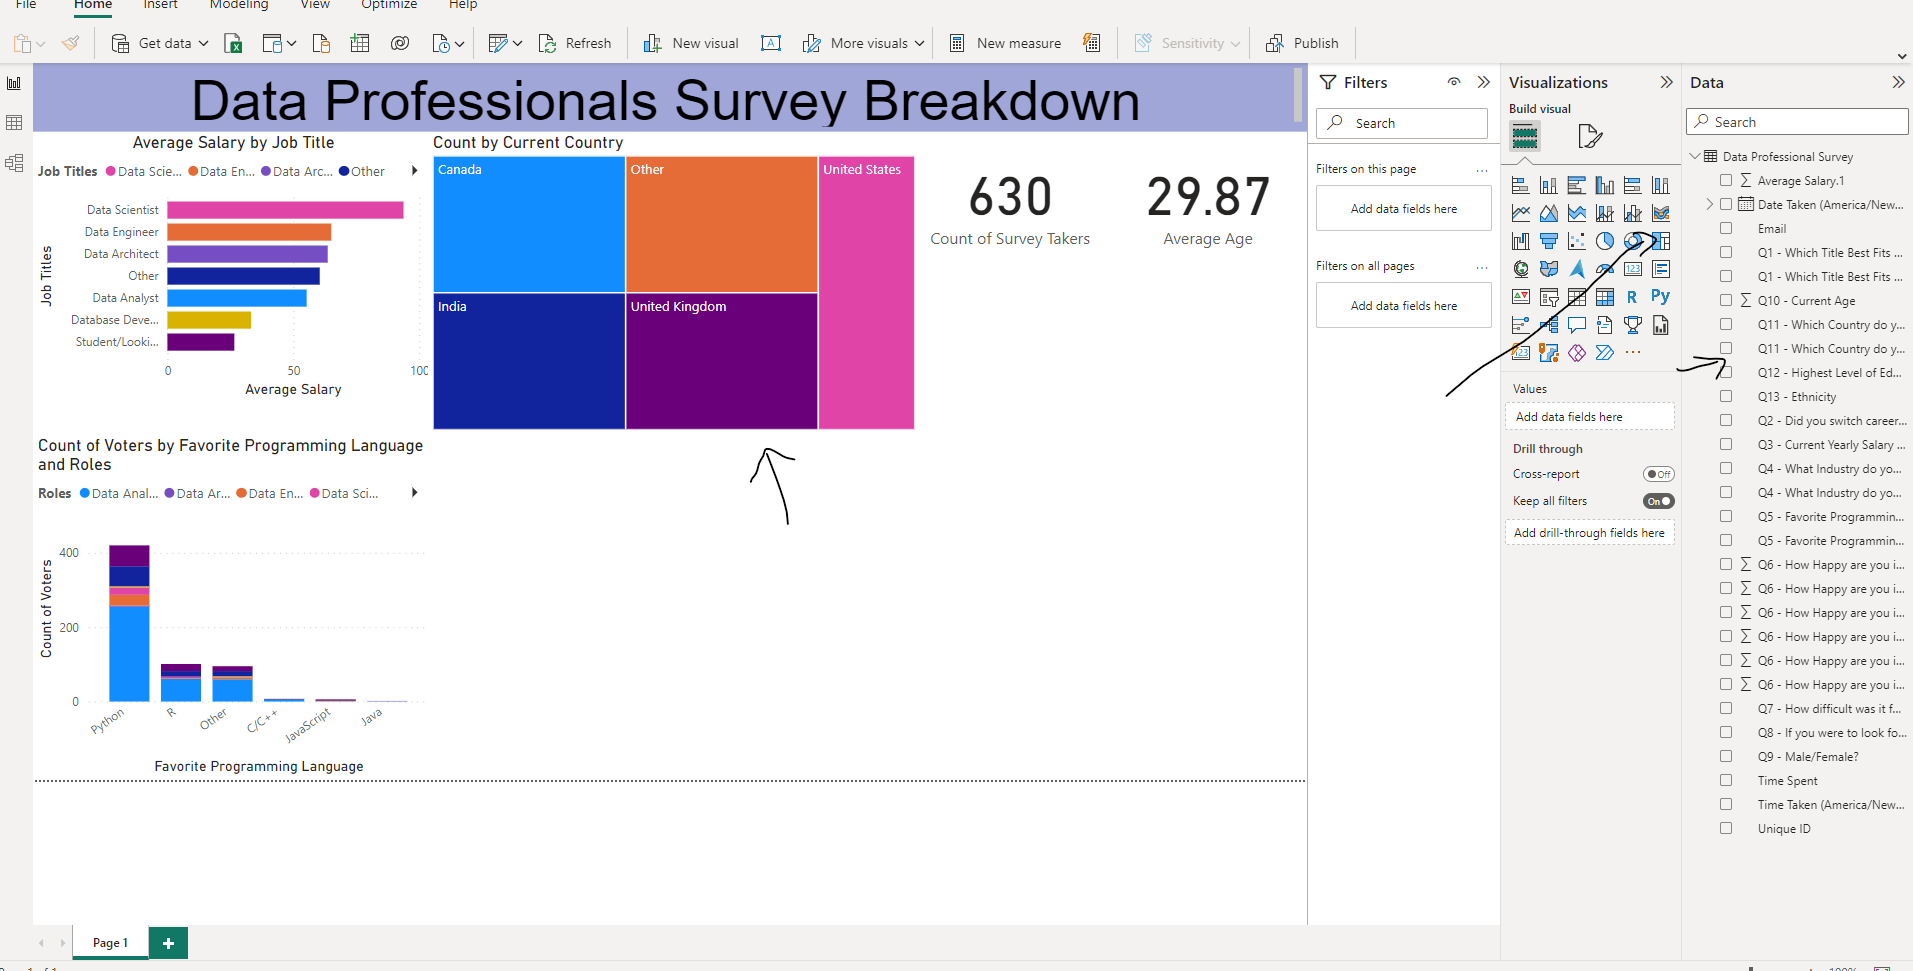

Layout of this report page (visuals, bound fields, positions):
{"tool":"powerbi","page":{"name":"Page 1","canvas":[1280,720],"ordinal":0},"visuals":[{"type":"textbox","box":[0,0,1280,69.4],"z":0},{"type":"card","fields":{"Values":["Count(Data Professional Survey.Unique ID)"]},"box":[891.2,69.6,199.2,136],"z":1000},{"type":"card","fields":{"Values":["Avg(Data Professional Survey.Q10 - Current Age)"]},"box":[1080.9,69.5,199.1,135.9],"z":2000},{"type":"barChart","title":"Average Salary by Job Title","fields":{"Category":["Data Professional Survey.Q1 - Which Title Best Fits your Current Role?.1"],"Y":["Avg(Data Professional Survey.Average Salary.1)"],"Series":["Data Professional Survey.Q1 - Which Title Best Fits your Current Role?.1"]},"box":[453.1,69.6,452,282.8],"z":3000},{"type":"columnChart","fields":{"Category":["Data Professional Survey.Q5 - Favorite Programming Language.1"],"Y":["CountNonNull(Data Professional Survey.Unique ID)"],"Series":["Data Professional Survey.Q1 - Which Title Best Fits your Current Role?.1"]},"box":[0,352.4,402.7,367.4],"z":4000},{"type":"treemap","fields":{"Group":["Data Professional Survey.Q11 - Which Country do you live in?.1"],"Values":["Count(Data Professional Survey.Q11 - Which Country do you live in?.1)"]},"box":[0,70,452.7,282.4],"z":5000},{"type":"gauge","title":"Happiness with Work/Balance","fields":{"Y":["Avg(Data Professional Survey.Q6 - How Happy are you in your Current Position with the following? (Work/Life Balance))"],"MinValue":["Min(Data Professional Survey.Q6 - How Happy are you in your Current Position with the following? (Work/Life Balance))1"],"MaxValue":["Max(Data Professional Survey.Q6 - How Happy are you in your Current Position with the following? (Work/Life Balance))2"]},"box":[891.2,227.1,388.8,205.7],"z":6000},{"type":"gauge","title":"Happiness with Pay Rate","fields":{"Y":["Avg(Data Professional Survey.Q6 - How Happy are you in your Current Position with the following? (Salary))"],"MinValue":["Min(Data Professional Survey.Q6 - How Happy are you in your Current Position with the following? (Salary))"],"MaxValue":["Max(Data Professional Survey.Q6 - How Happy are you in your Current Position with the following? (Salary))1"]},"box":[891.2,486.3,388.8,233.5],"z":7000},{"type":"donutChart","title":"Average Salary by Gender","fields":{"Category":["Data Professional Survey.Q7 - How difficult was it for you to break into Data?"],"Y":["CountNonNull(Data Professional Survey.Q7 - How difficult was it for you to break into Data?)"]},"box":[403,356.6,488.1,358.3],"z":8000}]}

Visuals, with their boxes on the page's 1280x720 design canvas (x1, y1, x2, y2). These are canvas units, not pixel positions in the 1913x971 screenshot, which may show the page scaled, cropped or inside an application window:
textbox: (left=0, top=0, right=1280, bottom=69)
card - Count(Data Professional Survey.Unique ID): (left=891, top=70, right=1090, bottom=206)
card - Avg(Data Professional Survey.Q10 - Current Age): (left=1081, top=70, right=1280, bottom=205)
"Average Salary by Job Title" barChart: (left=453, top=70, right=905, bottom=352)
columnChart - Data Professional Survey.Q5 - Favorite Programming Language.1 x CountNonNull(Data Professional Survey.Unique ID): (left=0, top=352, right=403, bottom=720)
treemap - Data Professional Survey.Q11 - Which Country do you live in?.1 x Count(Data Professional Survey.Q11 - Which Country do you live in?.1): (left=0, top=70, right=453, bottom=352)
"Happiness with Work/Balance" gauge: (left=891, top=227, right=1280, bottom=433)
"Happiness with Pay Rate" gauge: (left=891, top=486, right=1280, bottom=720)
"Average Salary by Gender" donutChart: (left=403, top=357, right=891, bottom=715)
